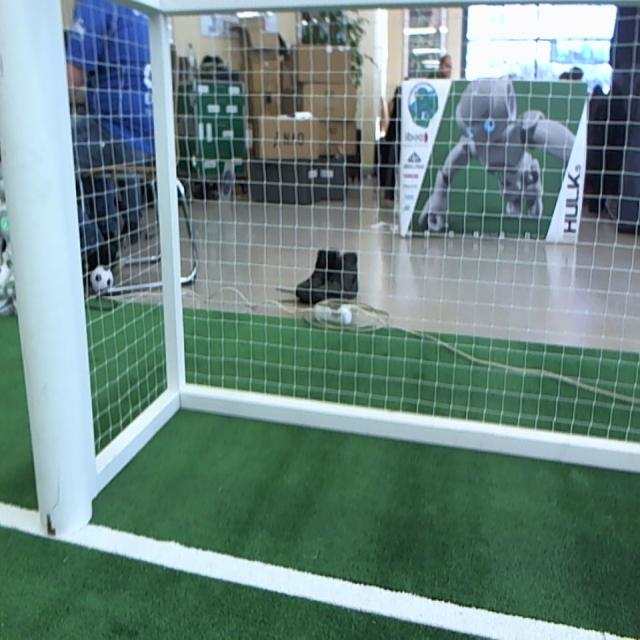goalpost: (1, 2, 93, 535)
